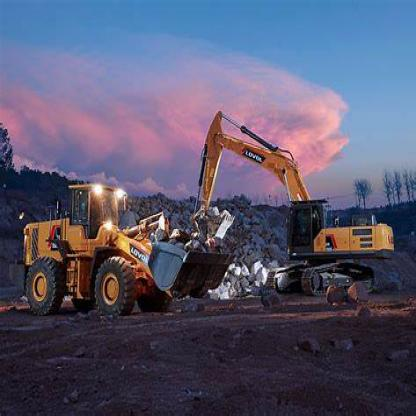bull_dozer/loader/grader: (18, 177, 235, 315)
excavator: (195, 102, 409, 302)
